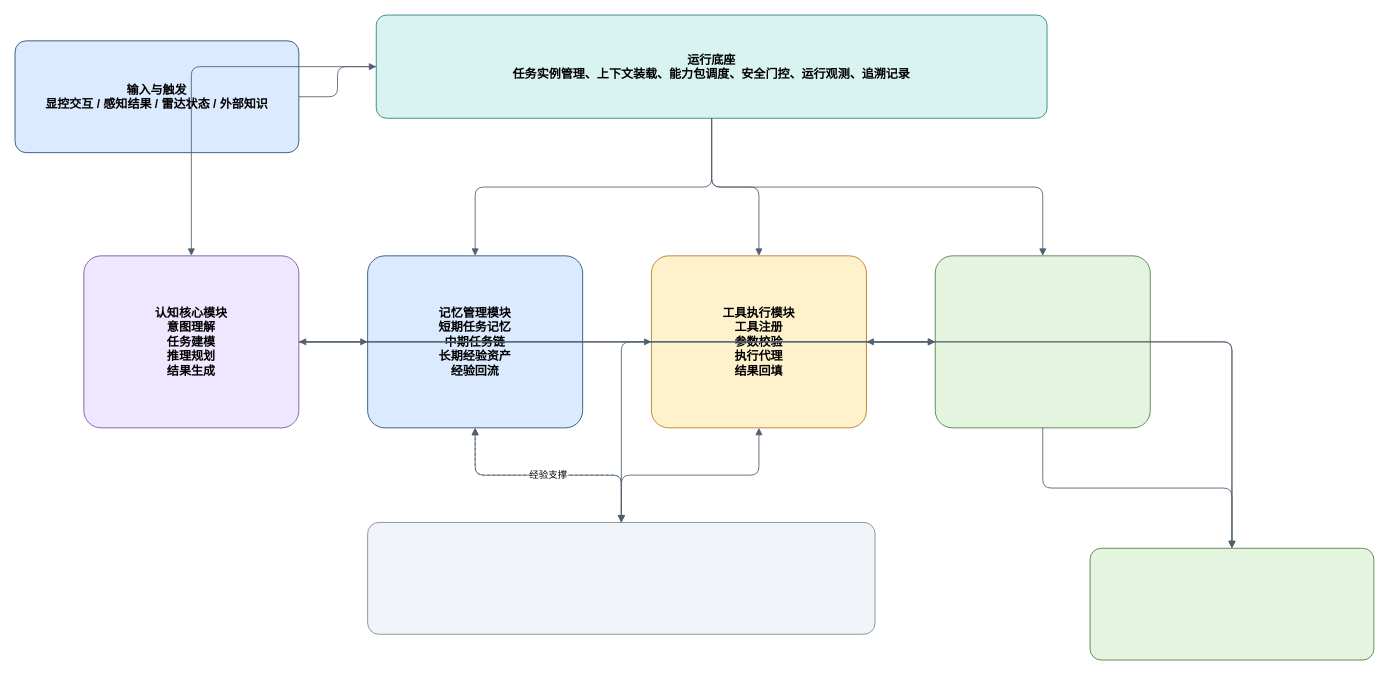
Image size: 1389x675. Some labels were removed from this diagram. The shapes that lost their labels are listed below. From the top down, each one's box as (x1, y1, x2, y2) in pixels, then its label:
(934, 255, 1150, 428): 工作流引擎模块 模板管理 节点执行 人工确认 异常回滚
(367, 522, 875, 634): 数据库管理与接入模块 关系数据 / 向量检索 / 图关系 / 时序数据 / 统一访问
(1089, 547, 1374, 660): 输出与联动 研判结果 / 候选参数 / 审批请求 / 复盘报告 / 经验资产
